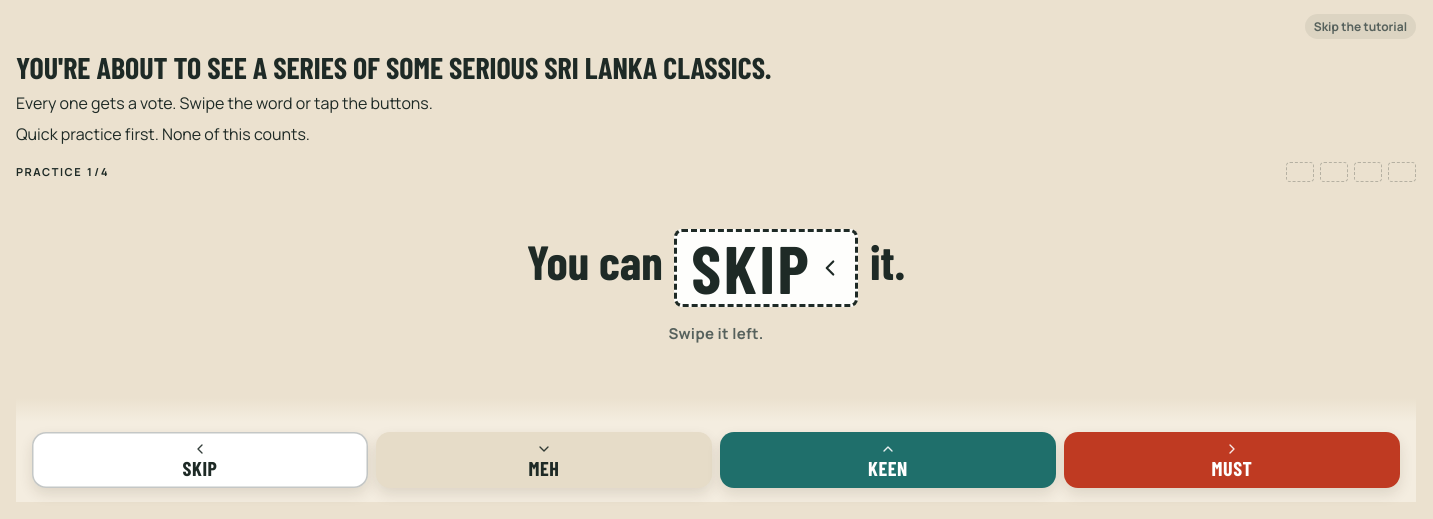
Test case: HowTo practice › takes the arrow key and the matching button too, and ignores the wrong ones
Press ArrowRight
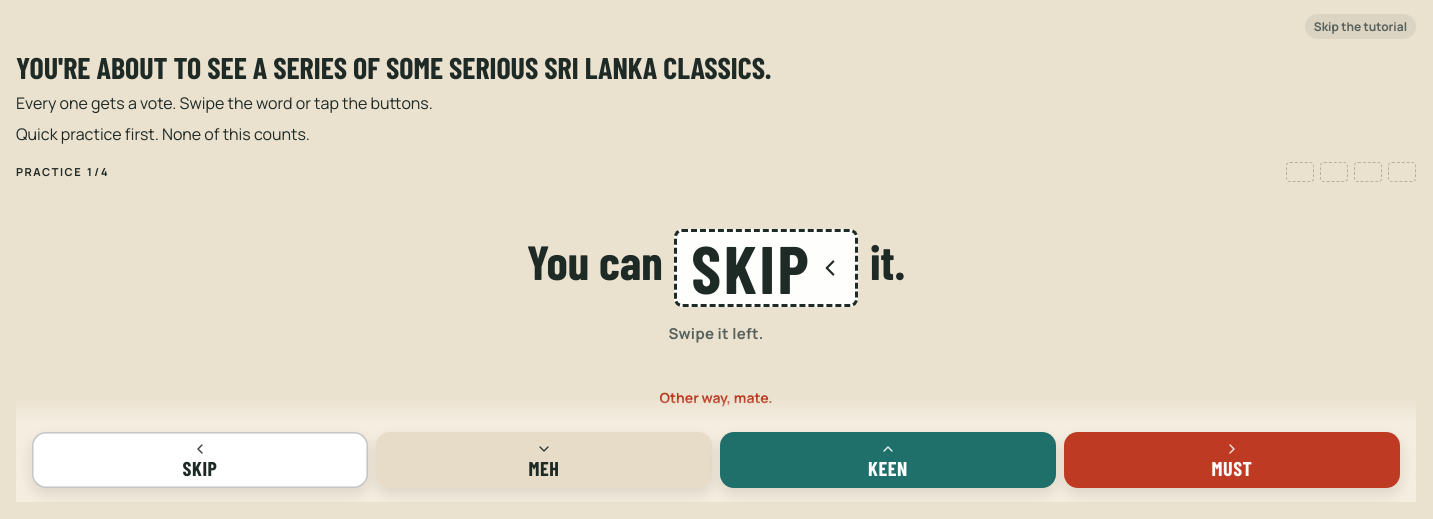
Expected: the element with class "hw-word" reads "Skip", x1=691 y1=228 x2=812 y2=308
Press ArrowLeft
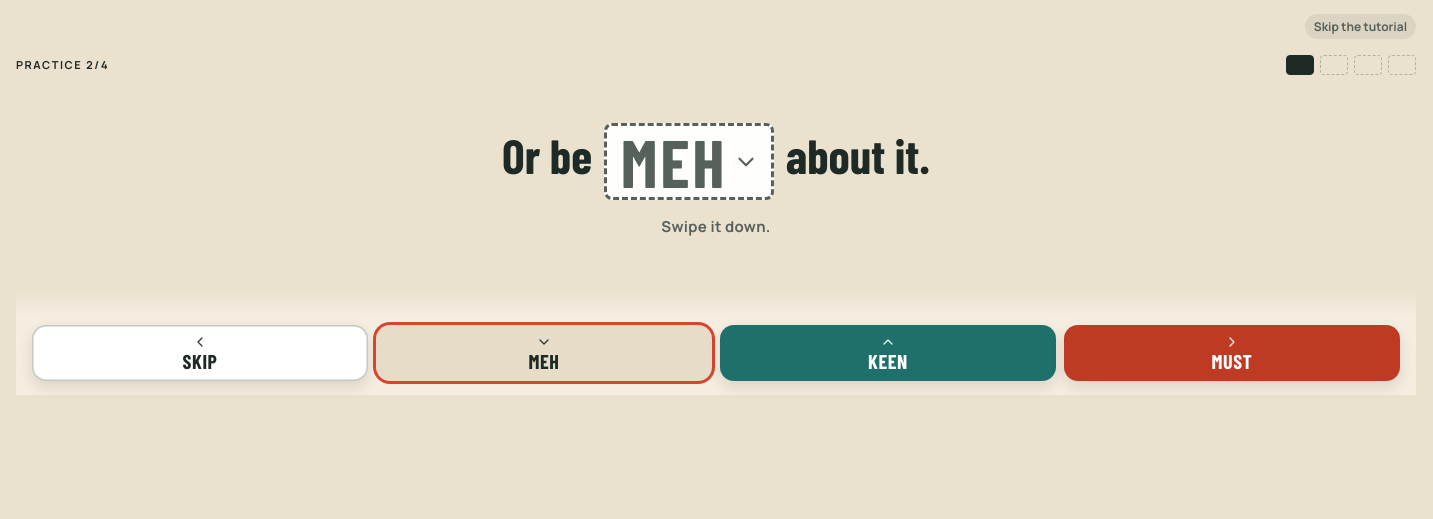
Now the element with class "hw-word" reads "Meh", box x1=621 y1=121 x2=727 y2=201
Click the button "Skip" at (200,353), box x1=32 y1=325 x2=368 y2=381
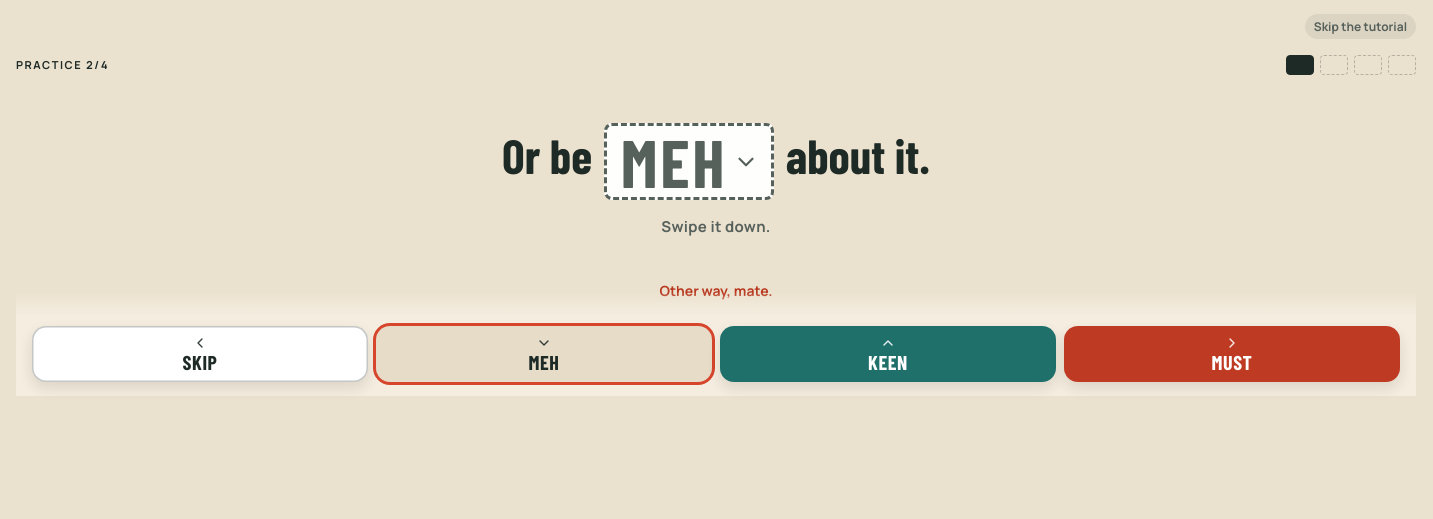
Now the element with class "hw-word" reads "Meh", box x1=621 y1=121 x2=727 y2=201
Click the button "Meh" at (544,354), box x1=376 y1=326 x2=712 y2=382
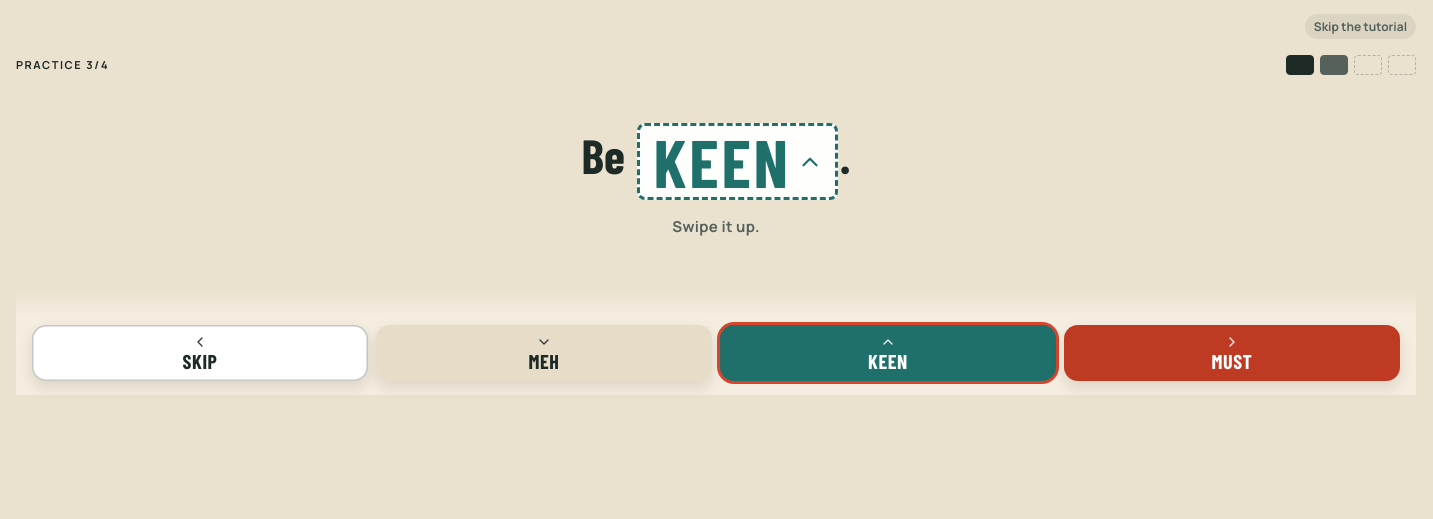
Now the element with class "hw-word" reads "Keen", box x1=654 y1=121 x2=791 y2=201
